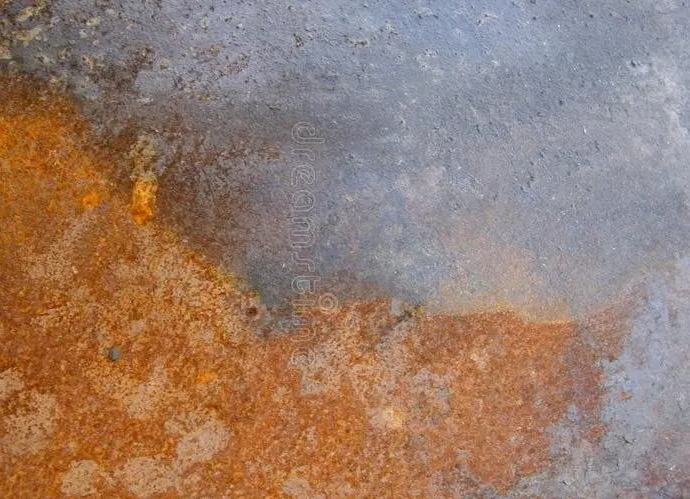Corrosion: (1, 69, 642, 499)
